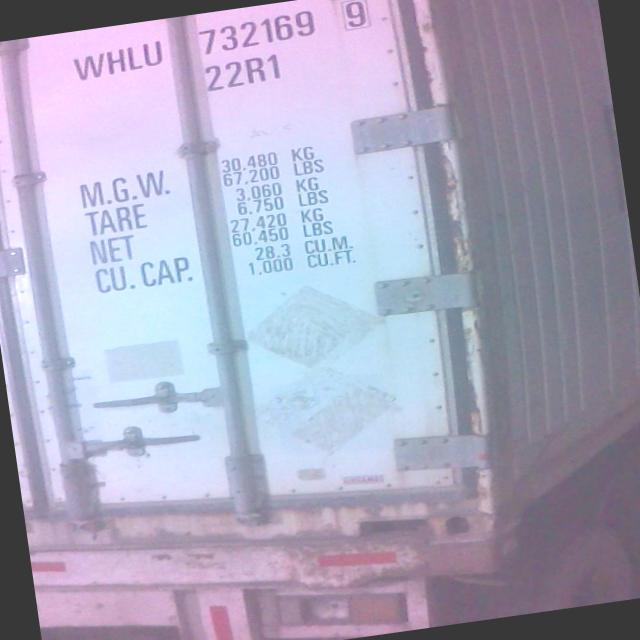seal: (81, 512, 108, 542)
